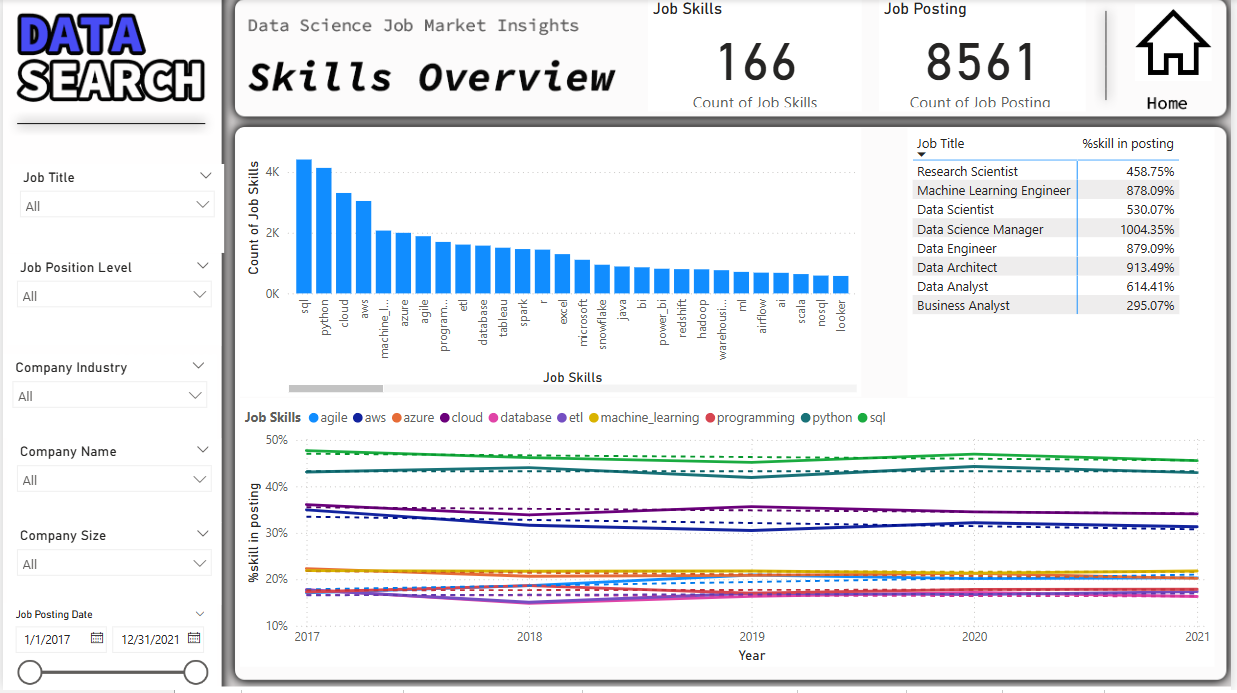

The page's visual inventory and layout, read from the dashboard file:
{"tool":"powerbi","page":{"name":"Skills","canvas":[1280,720],"ordinal":8},"visuals":[{"type":"slicer","fields":{"Values":["job_postings.Job Posting Date"]},"box":[0,630,222.5,90],"z":0},{"type":"slicer","fields":{"Values":["job_postings.Company Size"]},"box":[5,545,222.5,85],"z":1000},{"type":"slicer","fields":{"Values":["job_postings.Company Name"]},"box":[5,457.5,222.5,87.5],"z":2000},{"type":"slicer","fields":{"Values":["job_postings.Company Industry"]},"box":[0,370,222.5,87.5],"z":3000},{"type":"slicer","fields":{"Values":["job_postings.Job Position Level"]},"box":[5,265,222.5,95],"z":4000},{"type":"slicer","fields":{"Values":["job_postings.Job Title"]},"box":[7.5,172.5,222.5,92.5],"z":5000},{"type":"columnChart","fields":{"Category":["Job Skills.Job Skills"],"Y":["CountNonNull(Job Skills.Job Skills)"]},"box":[247.5,135,647.5,280],"z":6000},{"type":"pivotTable","fields":{"Values":["Job Skills.%skill in posting"],"Rows":["job_postings.Job Title"]},"box":[942.5,135,320,280],"z":6001},{"type":"lineChart","fields":{"Y":["Job Skills.%skill in posting"],"Series":["Job Skills.Job Skills"],"Category":["job_postings.Job Posting Date.Variation.Date Hierarchy.Year","job_postings.Job Posting Date.Variation.Date Hierarchy.Quarter","job_postings.Job Posting Date.Variation.Date Hierarchy.Month","job_postings.Job Posting Date.Variation.Date Hierarchy.Day"]},"box":[247.5,415,1015,280],"z":6002},{"type":"card","title":"Job Skills","fields":{"Values":["Count(Job Skills.Job Skills)"]},"box":[672.5,0,222.5,117.5],"z":6003},{"type":"card","title":"Job Posting","fields":{"Values":["Count(Job Skills.Job Posting ID)"]},"box":[912.5,0,215,117.5],"z":6004},{"type":"image","box":[1157.5,0,122.5,90],"z":6005}]}

Visuals, with their boxes in screenshot pixels (x1, y1, x2, y2), scaled from the page's 1280x720 canvas onto the 1237x693 screenshot:
slicer - job_postings.Job Posting Date: [0,606,215,692]
slicer - job_postings.Company Size: [5,525,220,606]
slicer - job_postings.Company Name: [5,440,220,525]
slicer - job_postings.Company Industry: [0,356,215,440]
slicer - job_postings.Job Position Level: [5,255,220,346]
slicer - job_postings.Job Title: [7,166,222,255]
columnChart - Job Skills.Job Skills x CountNonNull(Job Skills.Job Skills): [239,130,865,399]
pivotTable - Job Skills.%skill in posting x job_postings.Job Title: [911,130,1220,399]
lineChart - Job Skills.%skill in posting x Job Skills.Job Skills: [239,399,1220,669]
"Job Skills" card: [650,0,865,113]
"Job Posting" card: [882,0,1090,113]
image: [1119,0,1236,87]
